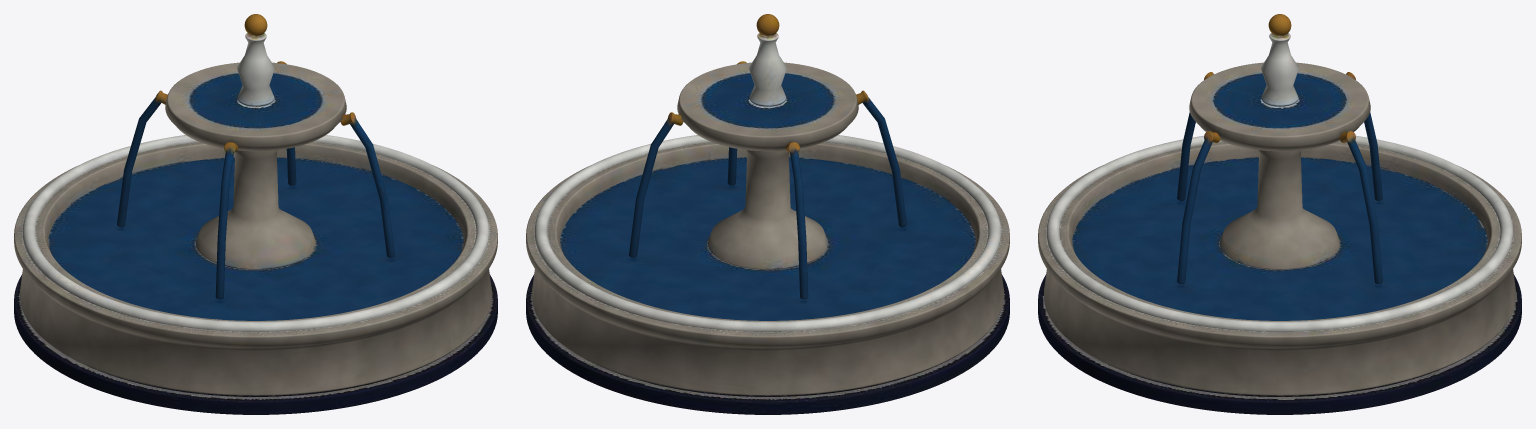
The model's file is fountain.glb.
3 renders of one model, left to right at view 1: azimuth 30°, elevation 25°; view 2: azimuth 150°, elevation 25°; view 3: azimuth 270°, elevation 25°, orthographic.
Parts seen in each view (by area): view 1: fountain; view 2: fountain; view 3: fountain.
Part boxes in pixels (left/top/right/bottom): fountain: left=14, top=14, right=497, bottom=414; fountain: left=526, top=14, right=1009, bottom=414; fountain: left=1038, top=14, right=1521, bottom=414.
Bounding box in the file's own units: 2.56 × 1.74 × 2.56.
Materials: 1 (1 with a texture image).
